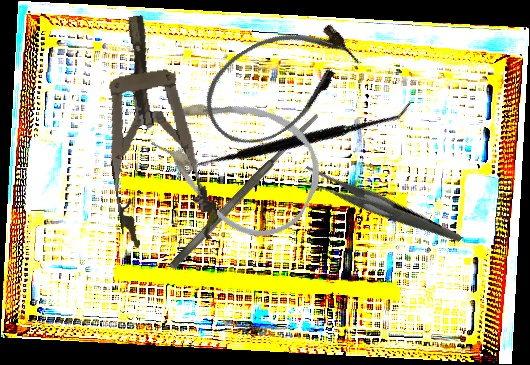Cannula: (134, 66, 340, 256), (188, 2, 370, 162)
Dressing Forceps: (297, 129, 463, 286)
Spatula Surgical: (181, 21, 413, 257), (166, 109, 324, 272)
Speculum: (88, 8, 222, 253)
